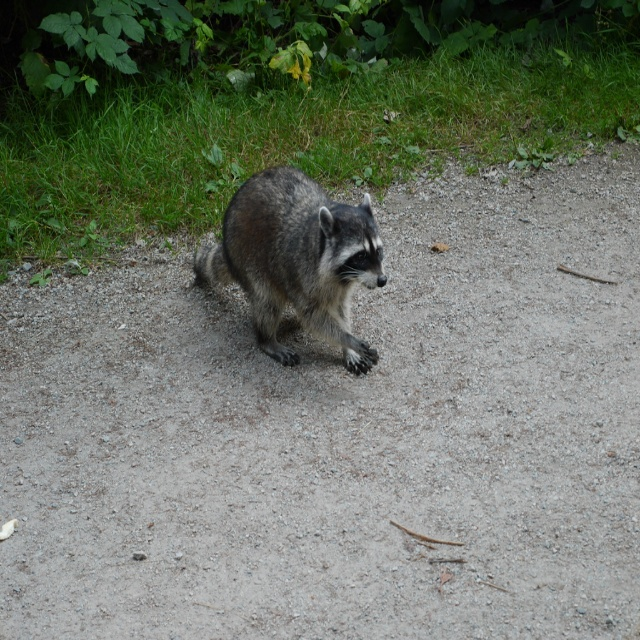Raccoon: (193, 165, 387, 375)
